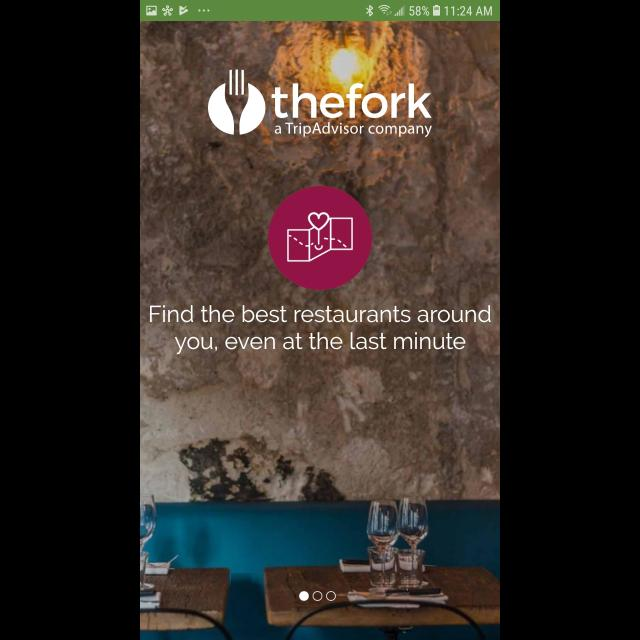backgroundimage: (140, 22, 500, 640)
image: (268, 186, 372, 290), (272, 83, 432, 137), (208, 70, 266, 134)
pageindicator: (299, 590, 337, 602)
text: (150, 306, 490, 354)
uppertaskbar: (140, 1, 500, 21)
